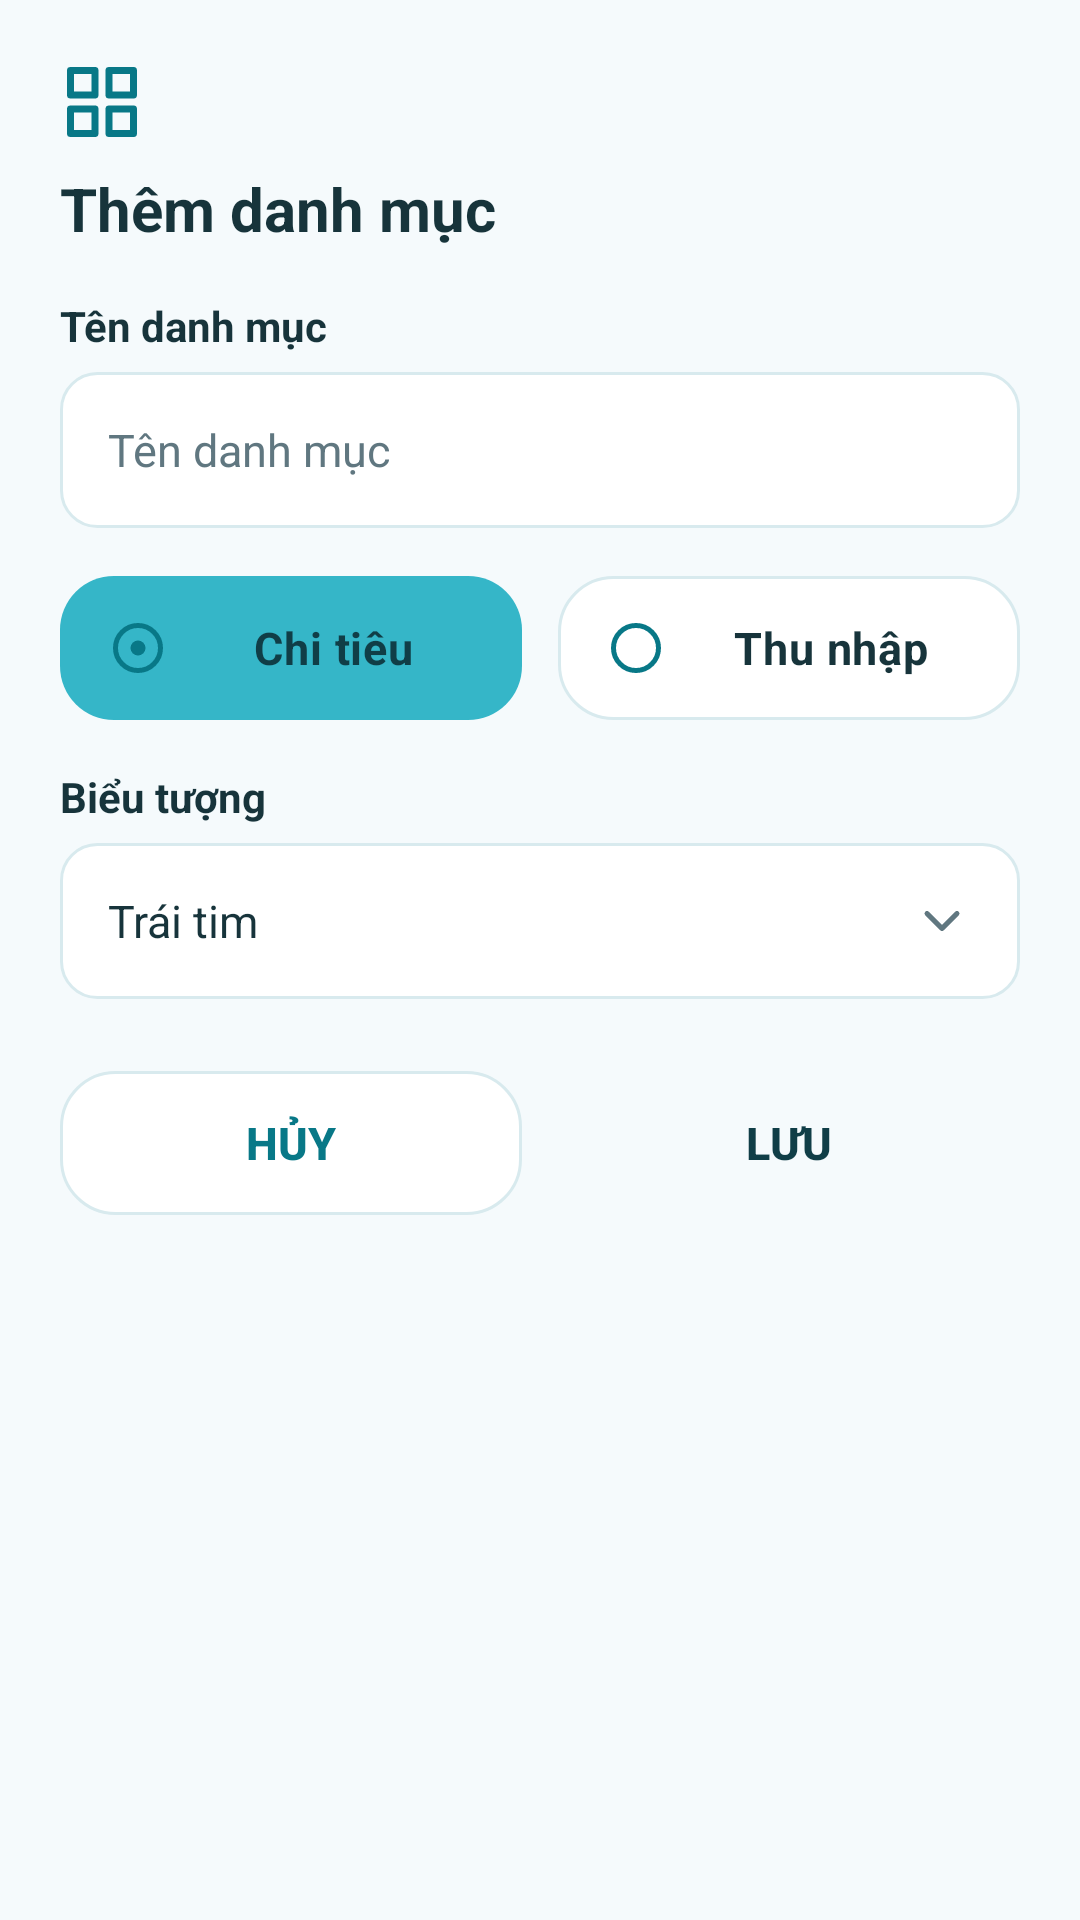

Named icons in this screenshot (1080x1920) and their centers, (x=x, y=y):
chevron down custom: (x=942, y=921)
layout grid custom: (x=102, y=102)
